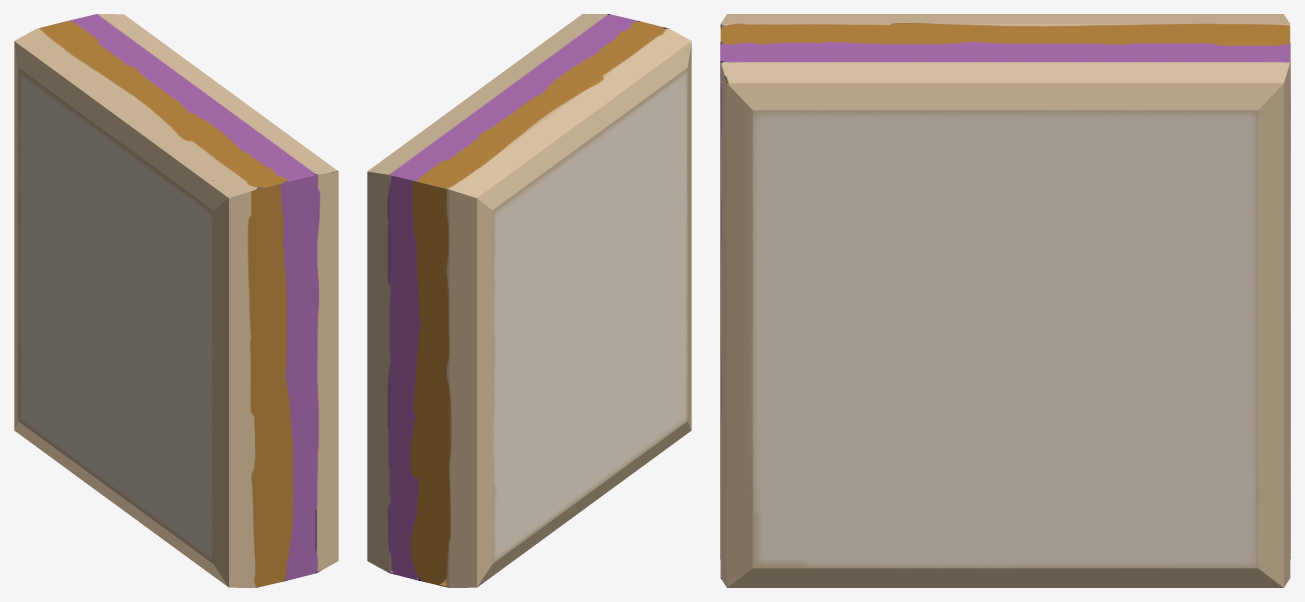
Rendered from sandwich.fbx.
3 views of the same model, side by side, from view 1: azimuth 30°, elevation 25°; view 2: azimuth 150°, elevation 25°; view 3: azimuth 270°, elevation 25° (orthographic). The views are drawn at different scales.
Parts seen in each view (by area): view 1: Cube; view 2: Cube; view 3: Cube.
Boxes of the visible parts, left/top/right/bottom form: Cube: left=14, top=14, right=338, bottom=587; Cube: left=367, top=14, right=691, bottom=587; Cube: left=720, top=14, right=1290, bottom=587.
Bounding box in the file's own units: 39.49 × 124 × 124.
